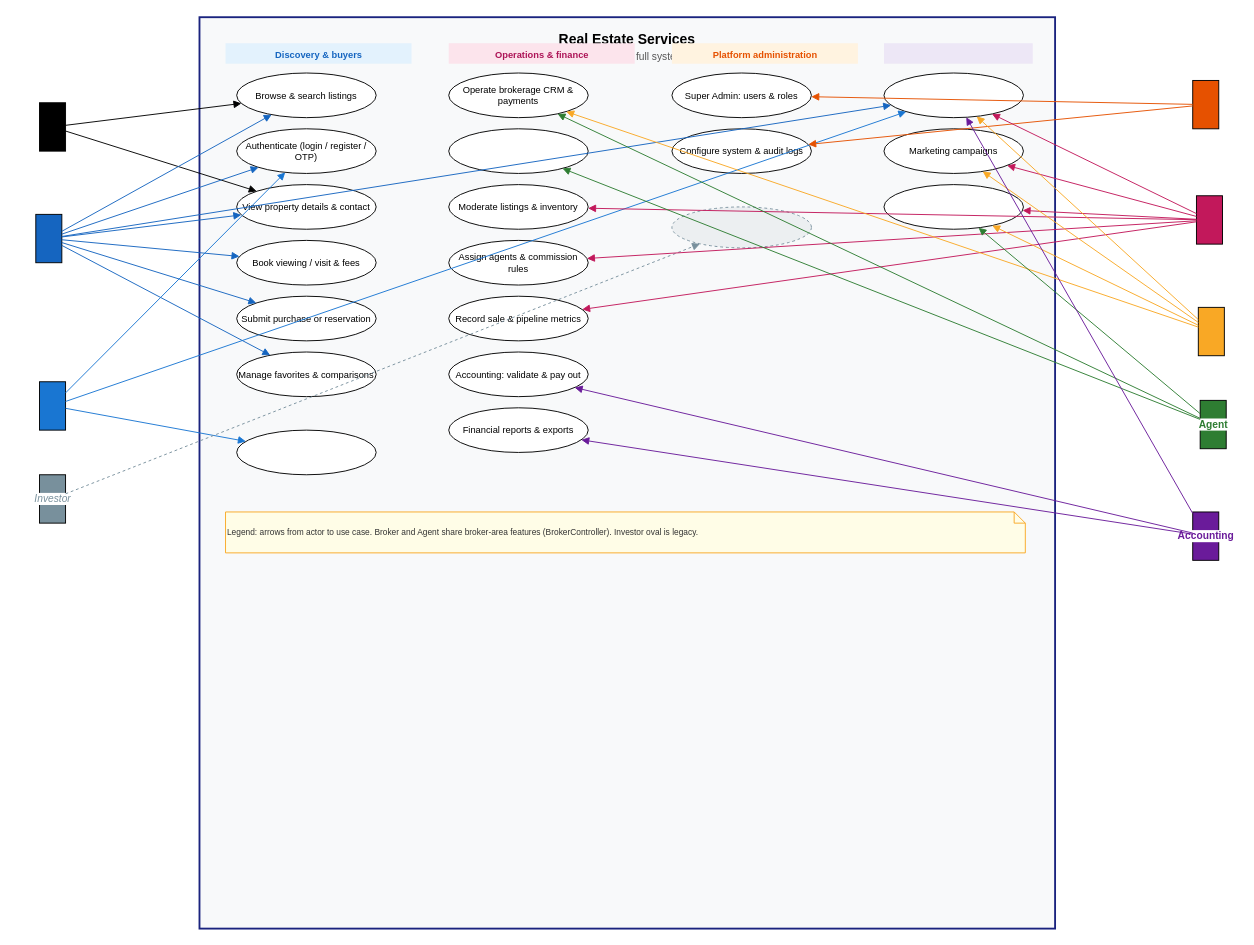
This 1254x945 diagram has some shape labels left out. Here are the shapes that lost their labels. From the top down, the box of each, then its label:
(884, 43, 1032, 63): Cross-cutting
(883, 72, 1023, 118): Support tickets
(1192, 80, 1219, 129): Super Admin
(39, 102, 66, 151): Guest
(448, 128, 588, 173): Agent: assignments & inquiries
(883, 184, 1023, 229): Live viewing / location tracking
(1196, 195, 1222, 244): Manager
(35, 213, 62, 263): Buyer / Client
(671, 206, 811, 248): Investor portal (legacy)
(1197, 306, 1224, 356): Broker
(39, 381, 66, 430): Seller
(236, 429, 376, 475): Manage seller listings & notifications
